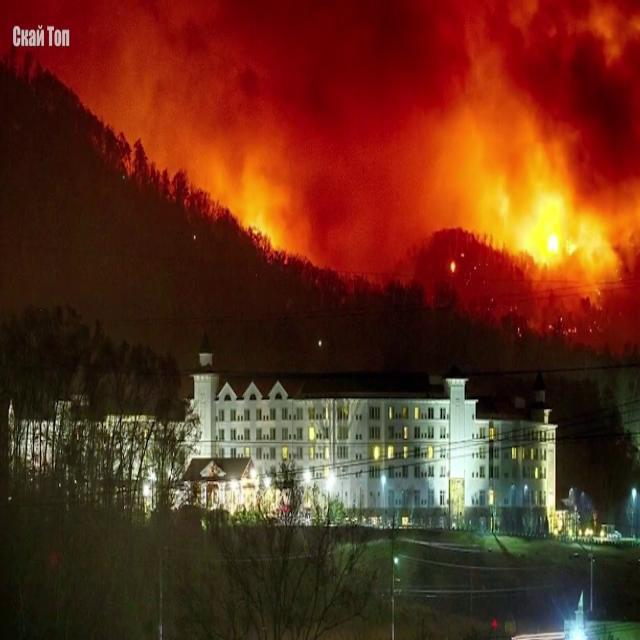Fire: (513, 206, 596, 278), (228, 178, 289, 252)
Smoke: (200, 0, 640, 292)
